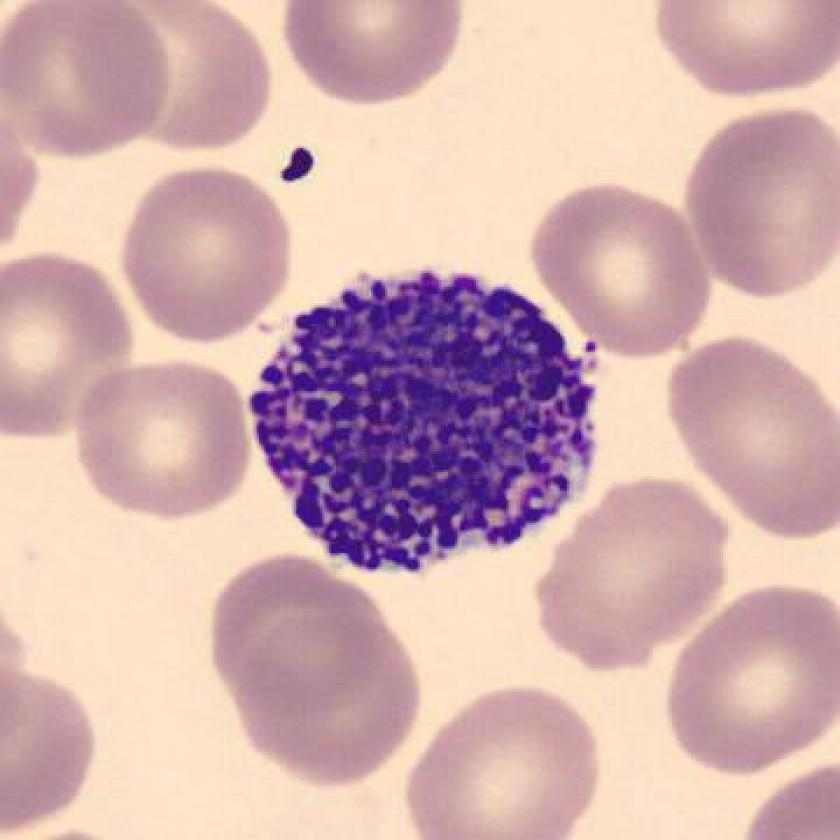basophil: (242, 253, 606, 575)
